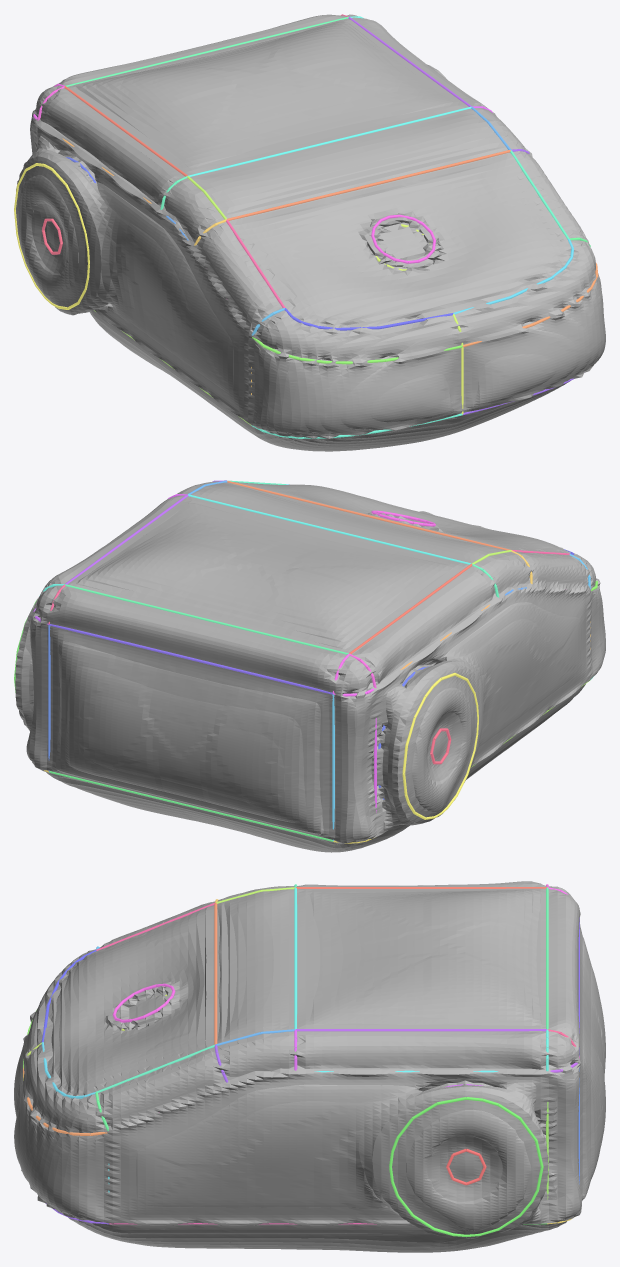
File: onshape_vacuum.gltf
3 renders of one model, top to bottom at view 1: azimuth 30°, elevation 25°; view 2: azimuth 150°, elevation 25°; view 3: azimuth 270°, elevation 25°, orthographic. The views are drawn at different scales.
Size of the model in its own units: 0.6396 by 0.3591 by 0.7931.
